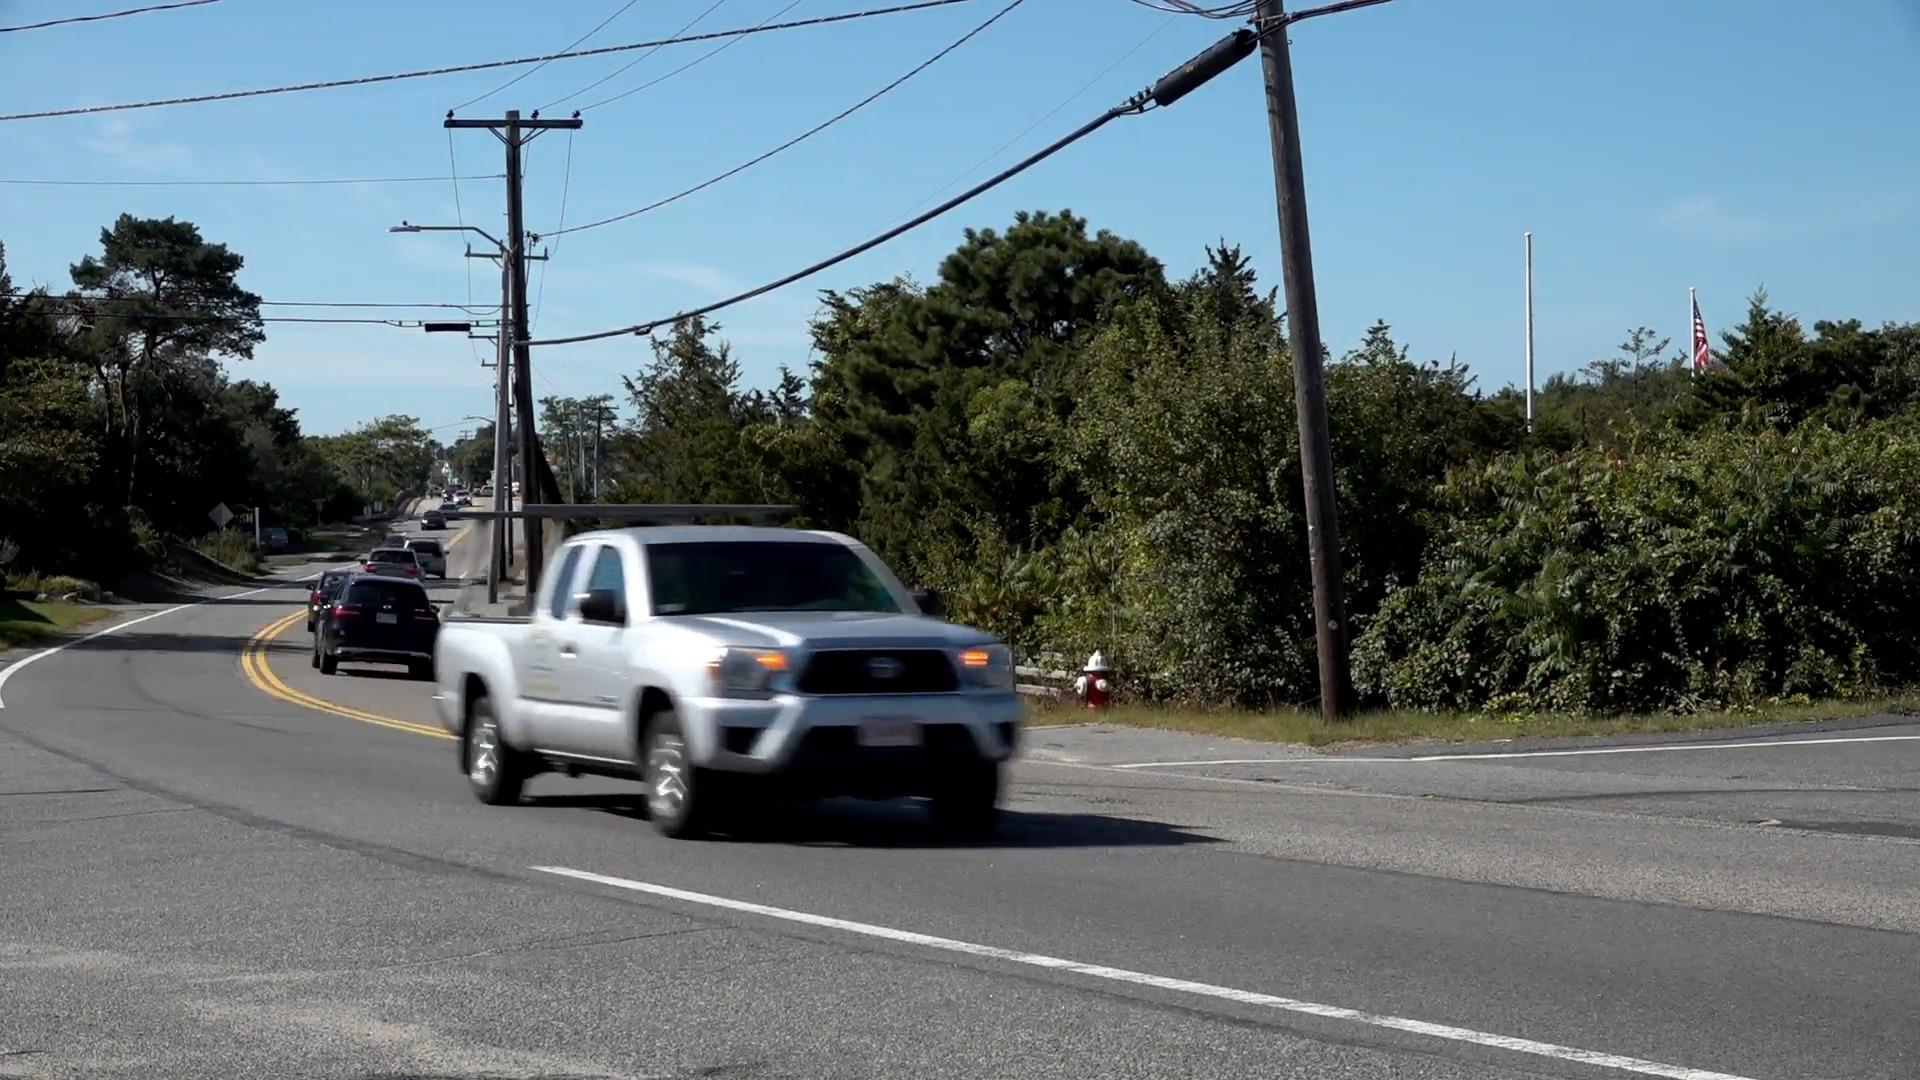pickup: (444, 513, 1027, 843)
suv: (313, 580, 442, 676)
